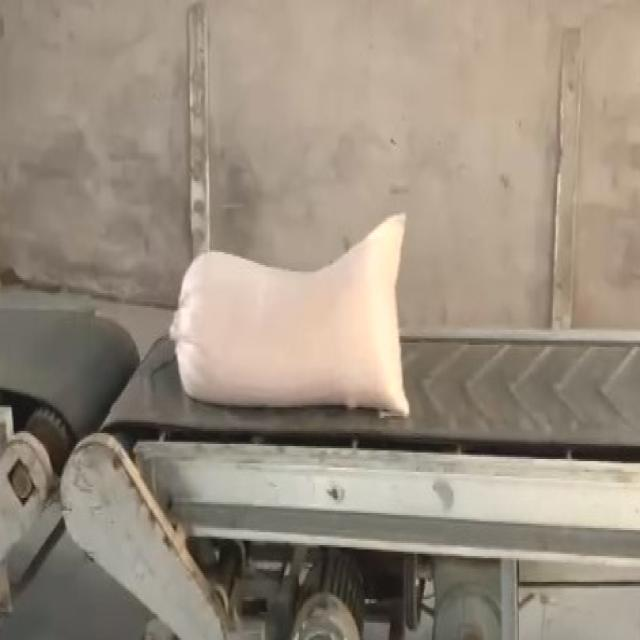gunny_bag: (170, 213, 409, 417)
